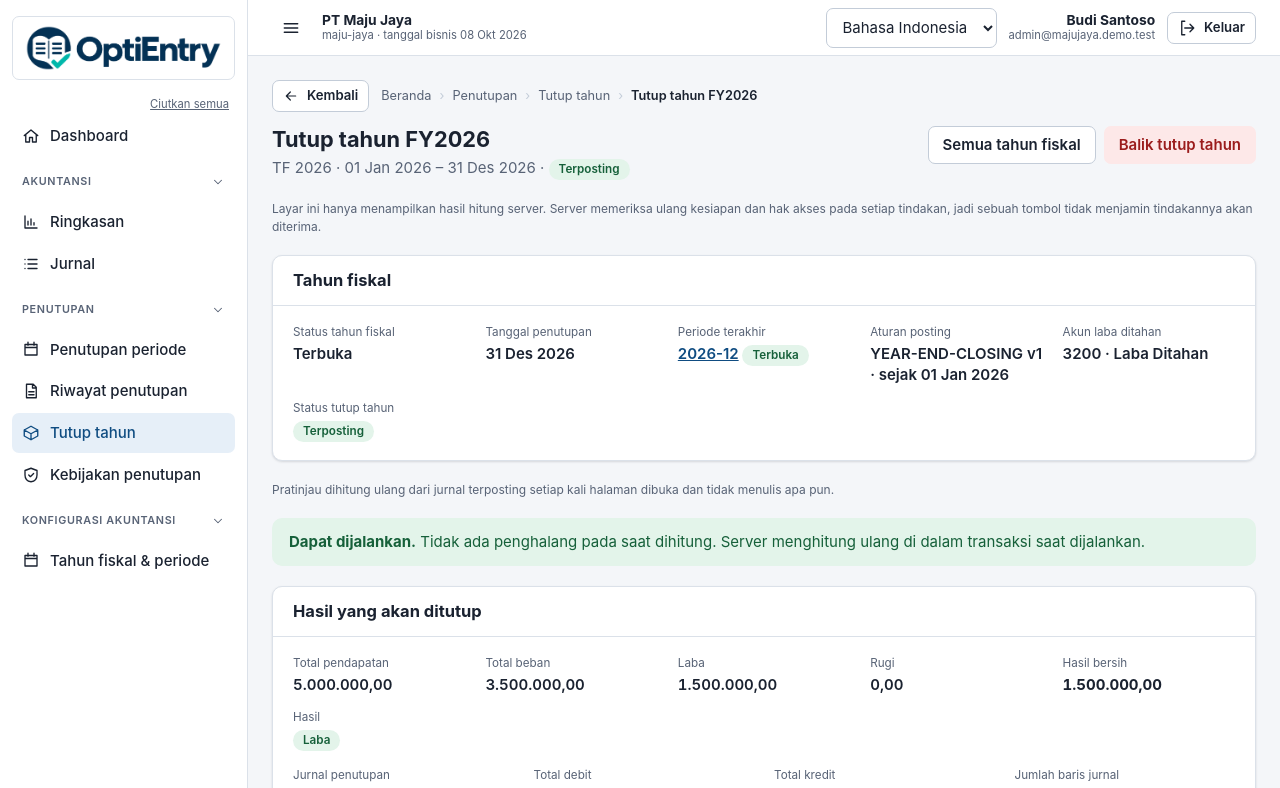
it: year end detail › shows the posted run with links to its journal, and reverses it with a reason
Step 1. Click the button "Balik tutup tahun" → (1180, 145), box [1104, 126, 1256, 164]
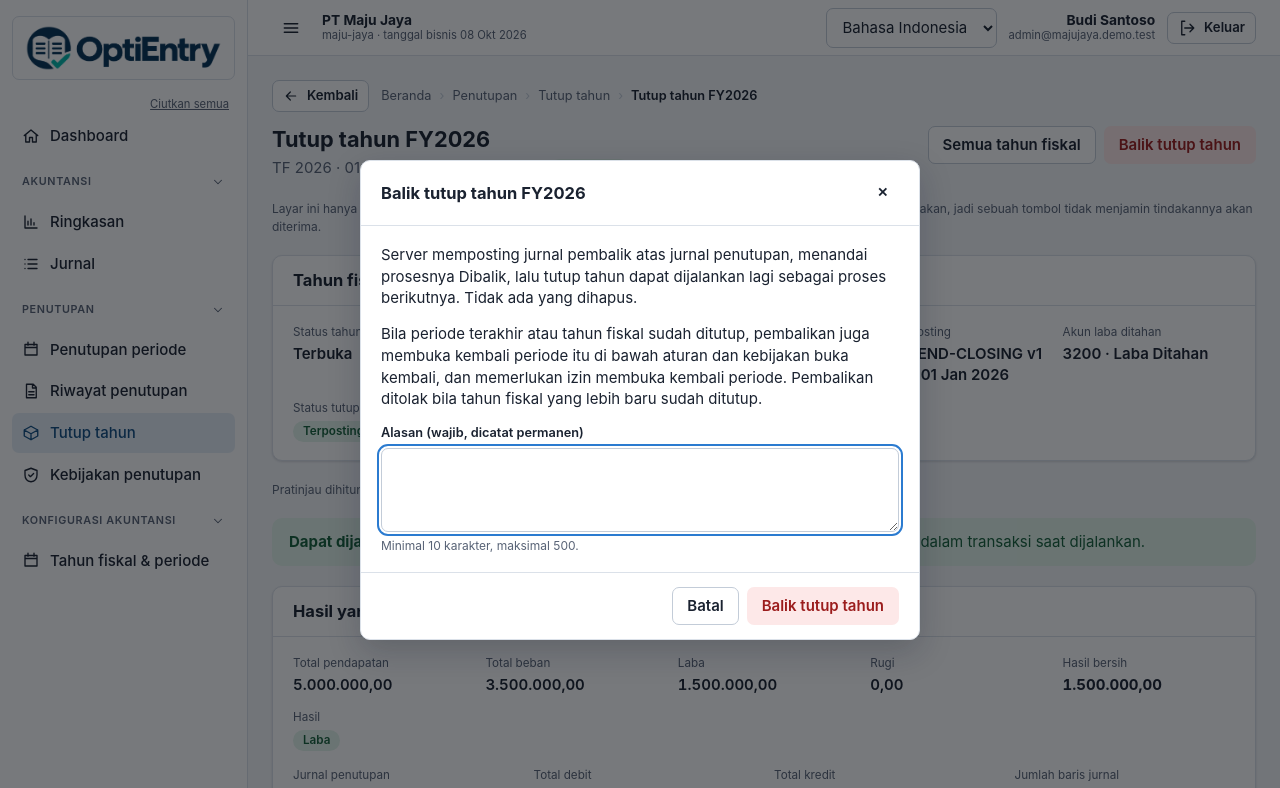
Step 2. Type "salah" into the text box labelled "Alasan (wajib, dicatat permanen)" → (640, 490), box [381, 448, 899, 532]
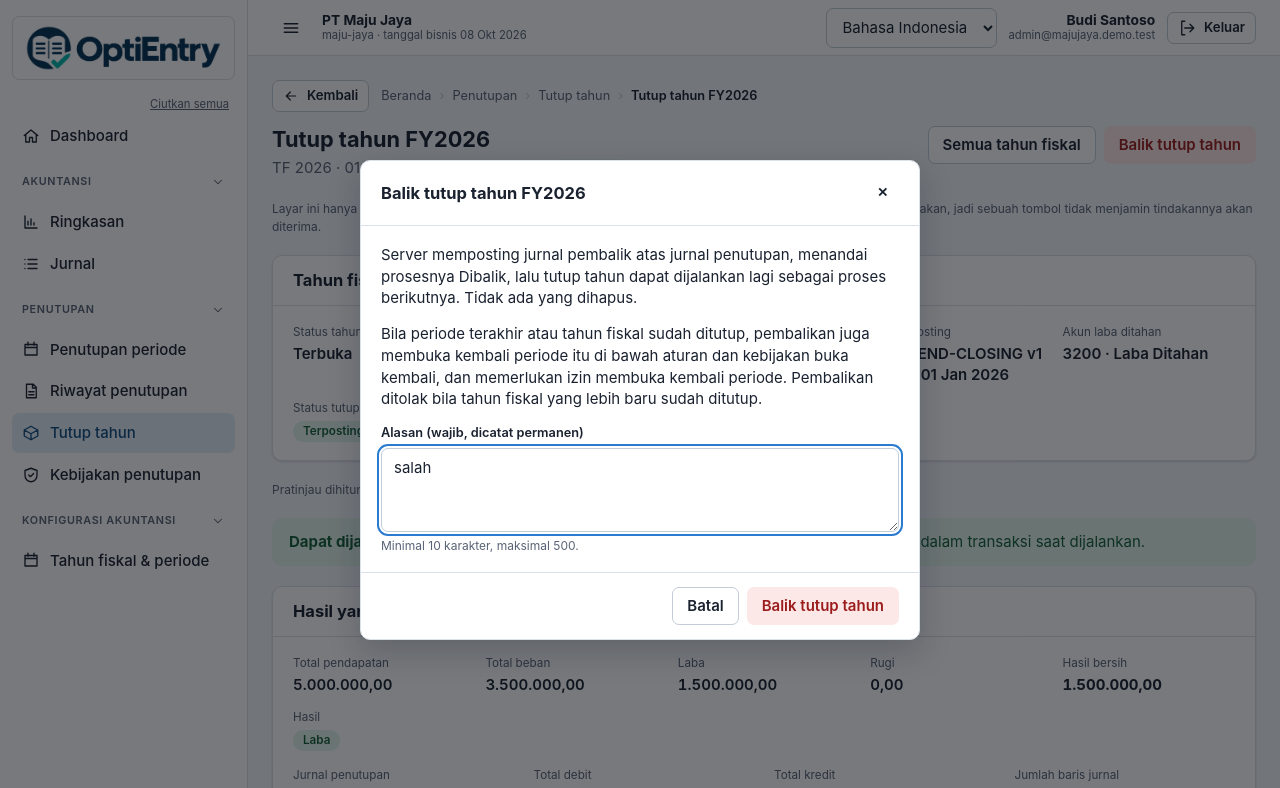
Step 3. Click the button "Balik tutup tahun" → (823, 606), box [747, 587, 899, 625]
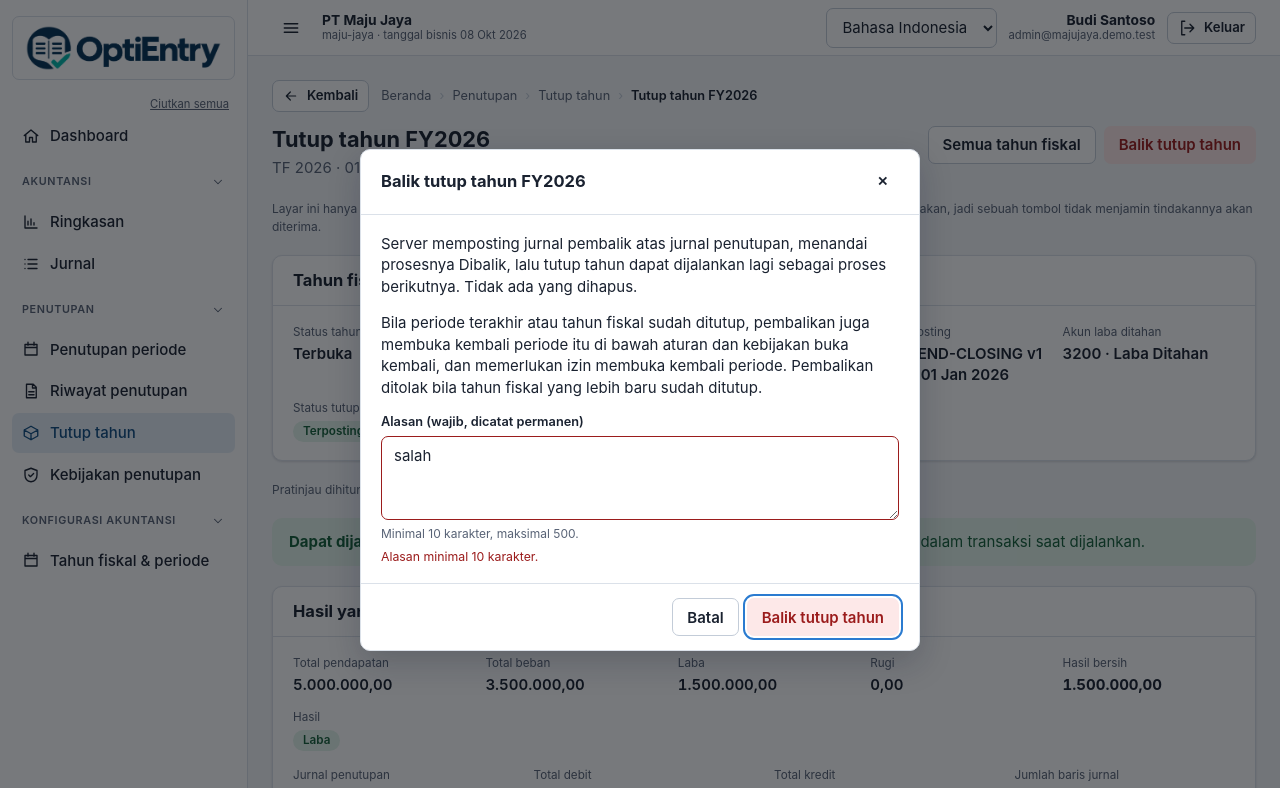
expect the text "Alasan minimal 10 karakter." is shown: met, box [381, 549, 538, 564]
Step 4. Type " akun laba ditahan" into the text box labelled "Alasan (wajib, dicatat permanen)" → (640, 478), box [381, 436, 899, 520]
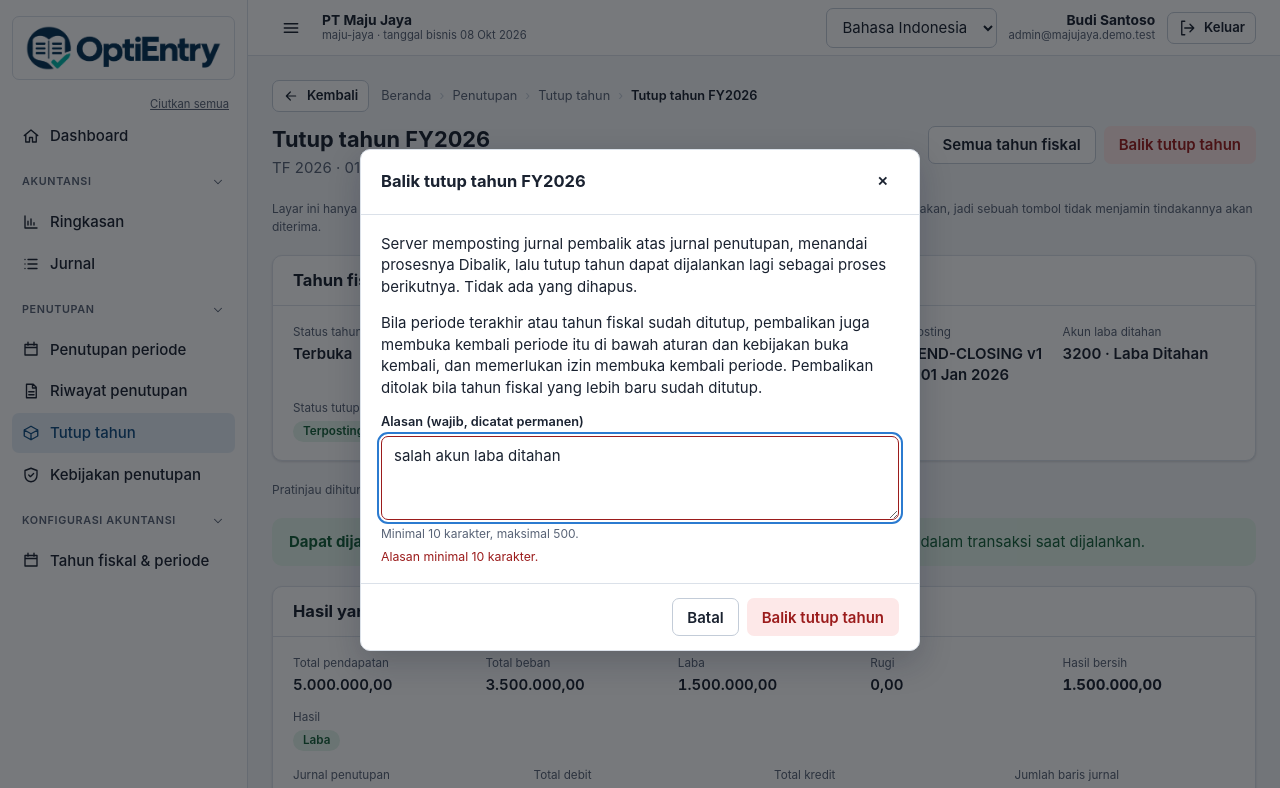
Step 5. Click the button "Balik tutup tahun" → (823, 618), box [747, 598, 899, 636]
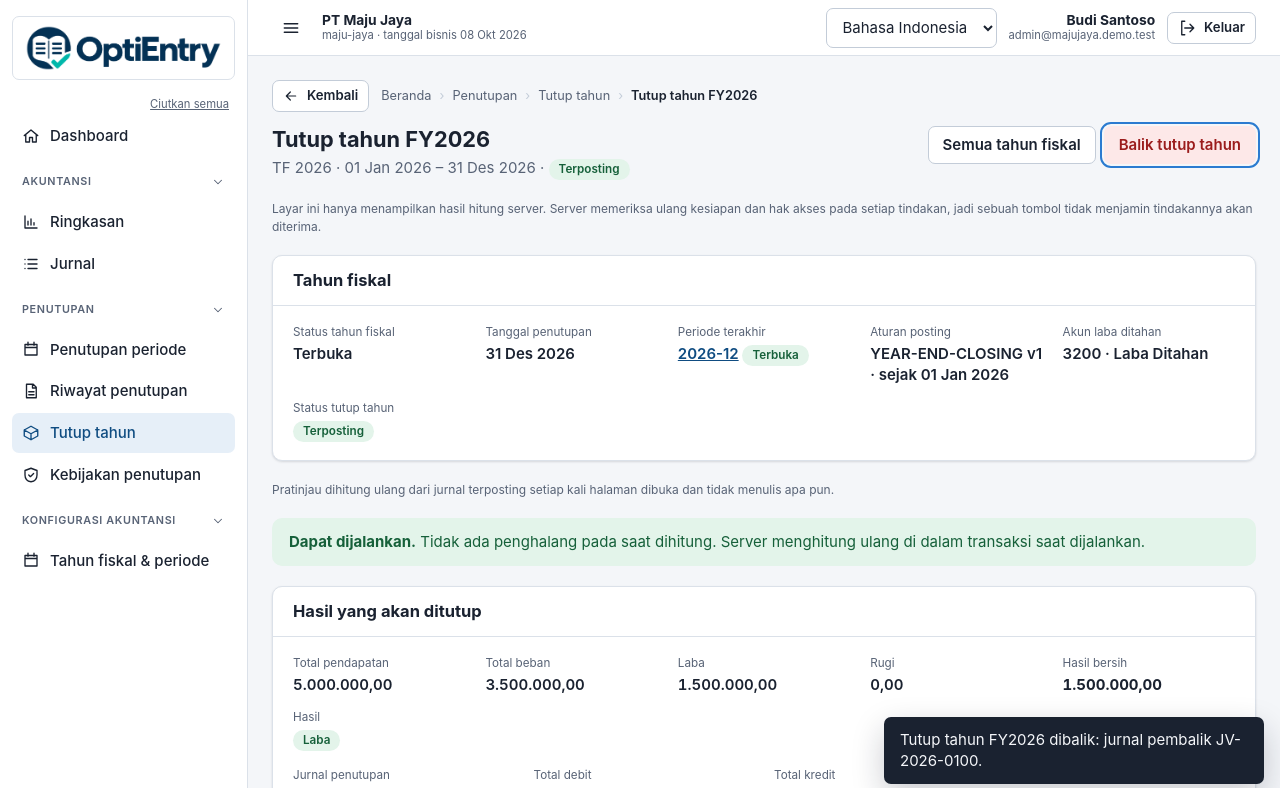
expect the text "Tutup tahun FY2026 dibalik: jurnal pembalik JV-2026-0100." is shown: met, box [884, 716, 1264, 784]
